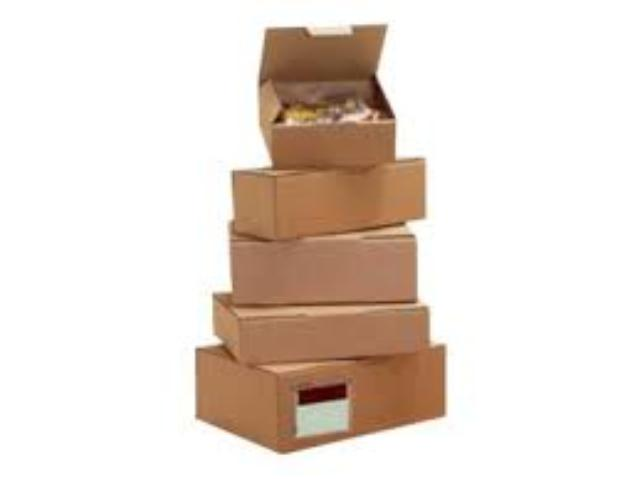cardboard paper: (198, 343, 445, 450), (257, 24, 395, 166), (230, 156, 420, 235), (215, 294, 427, 361), (230, 225, 413, 297)
